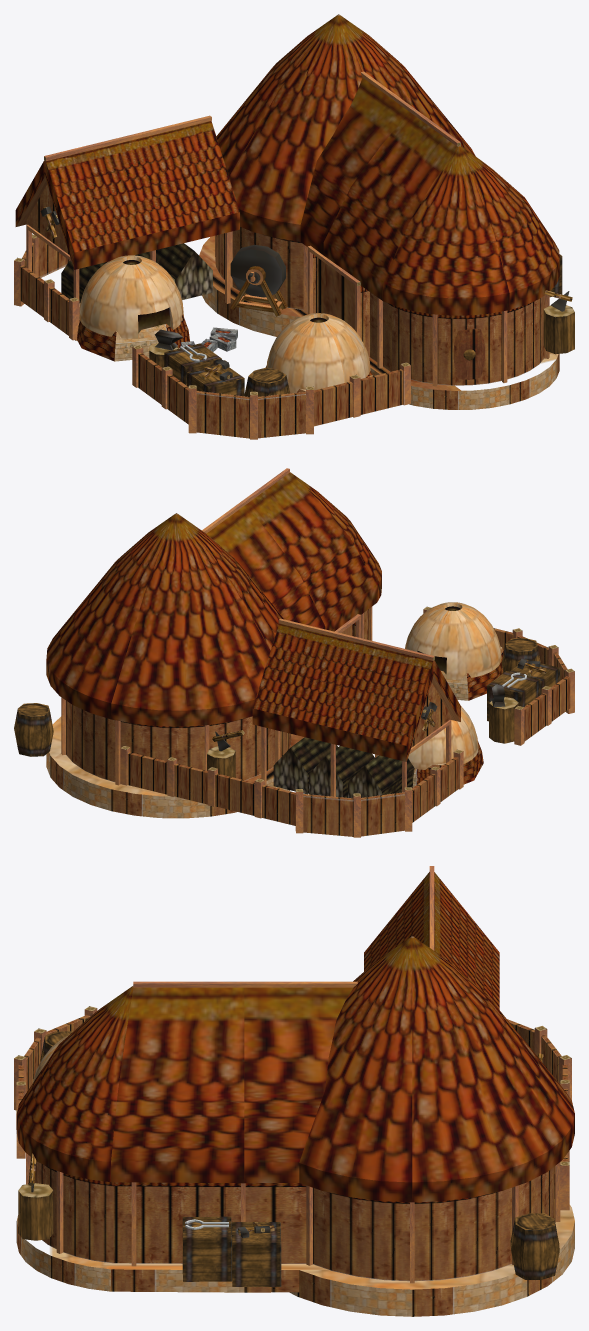
Rendered from forge.dae.
3 renders of one model, top to bottom at view 1: azimuth 30°, elevation 25°; view 2: azimuth 150°, elevation 25°; view 3: azimuth 270°, elevation 25°, orthographic. The views are drawn at different scales.
Parts seen in each view (by area): view 1: forge; view 2: forge; view 3: forge.
Boxes of the visible parts, bbox=[...] form: forge: bbox=[14, 14, 574, 439]; forge: bbox=[14, 468, 574, 837]; forge: bbox=[14, 866, 574, 1316].
Size of the model in its own units: 21.54 by 21.77 by 13.35.
